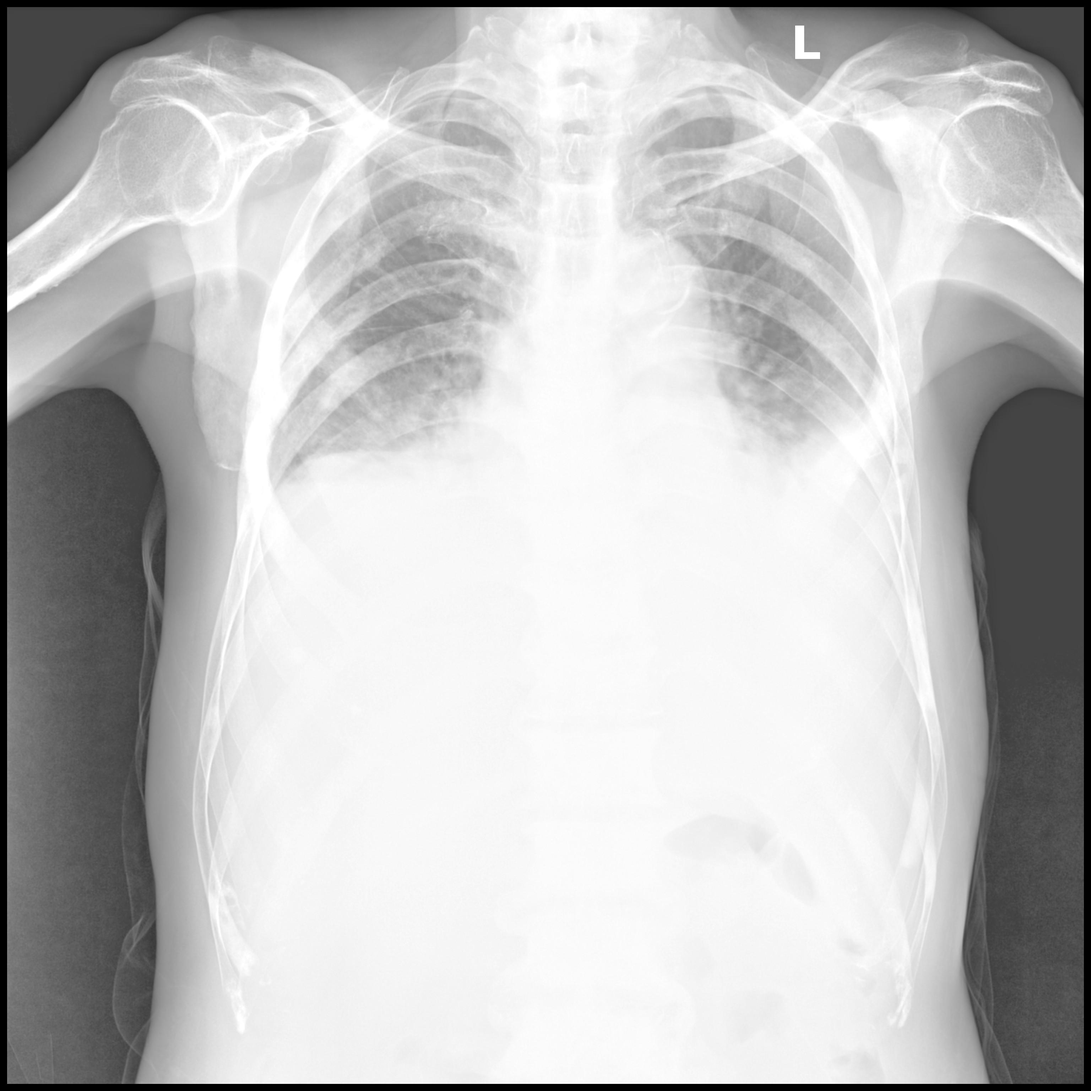Aortic enlargement: (588, 227, 707, 332)
Cardiomegaly: (447, 395, 785, 479)
Pulmonary fibrosis: (337, 233, 407, 298)
